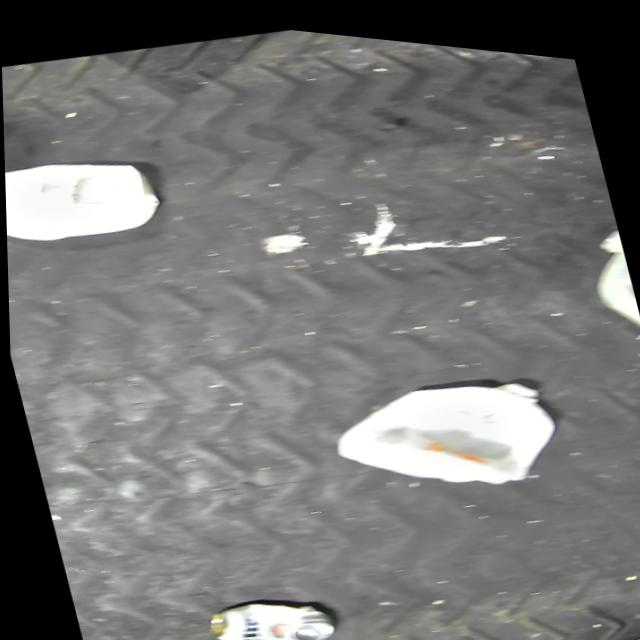can: (197, 575, 336, 640)
milk_jug: (318, 341, 567, 514), (3, 135, 166, 264)
